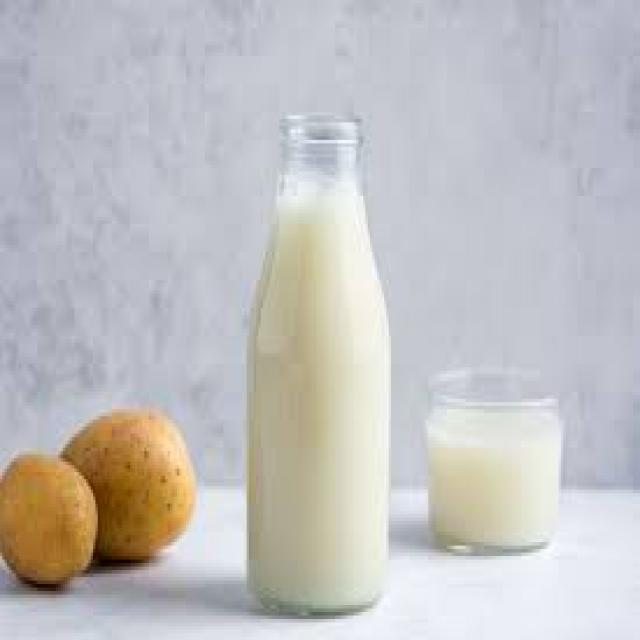Milk carton/jug: (240, 190, 398, 618), (423, 412, 563, 555)
